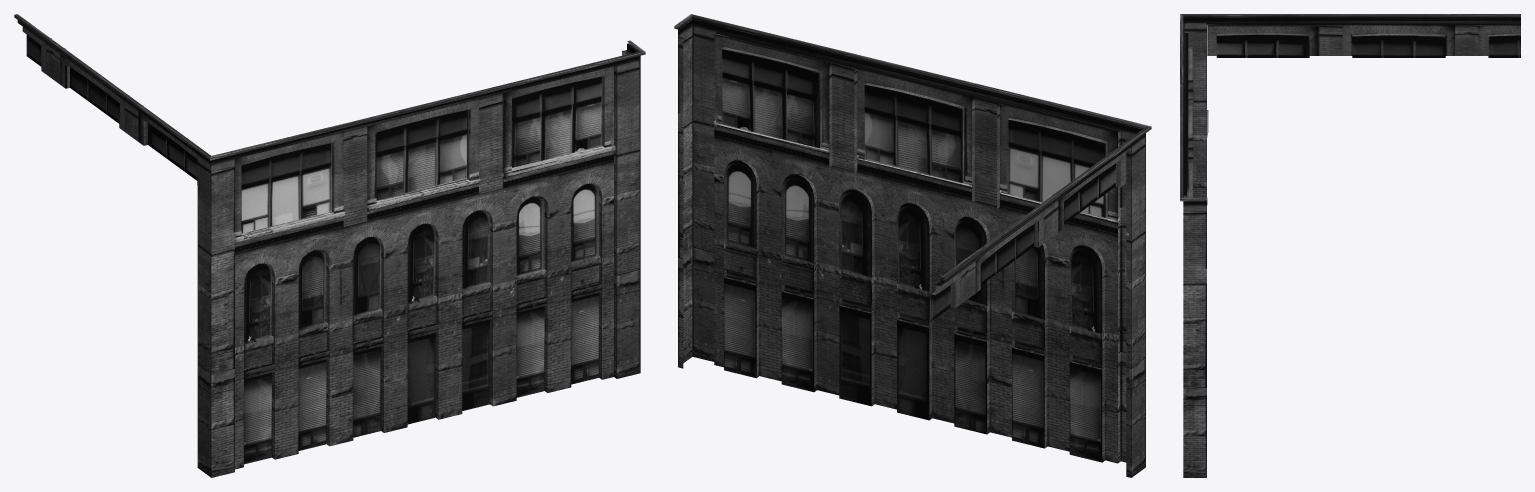
File: skidrow_building_3.fbx
3 renders of one model, left to right at view 1: azimuth 30°, elevation 25°; view 2: azimuth 150°, elevation 25°; view 3: azimuth 270°, elevation 25°, orthographic. The views are drawn at different scales.
Parts seen in each view (by area): view 1: skidrow_building_3; view 2: skidrow_building_3; view 3: skidrow_building_3.
Boxes of the visible parts, x1=… form: skidrow_building_3: x1=14, y1=14, x2=645, y2=477; skidrow_building_3: x1=674, y1=14, x2=1151, y2=477; skidrow_building_3: x1=1180, y1=14, x2=1520, y2=477.
Size of the model in its own units: 1300 by 918 by 1012.
